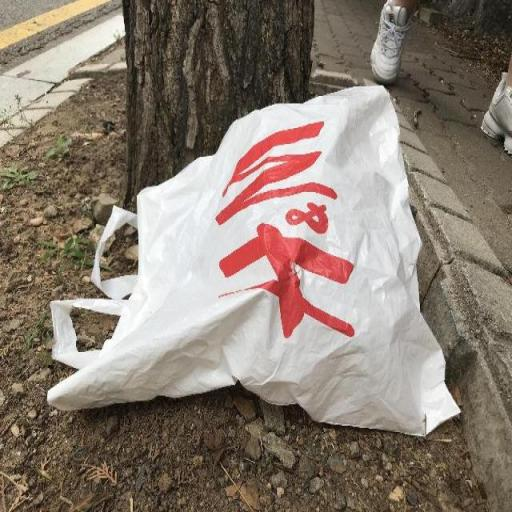plastic-bag: (44, 79, 468, 441)
